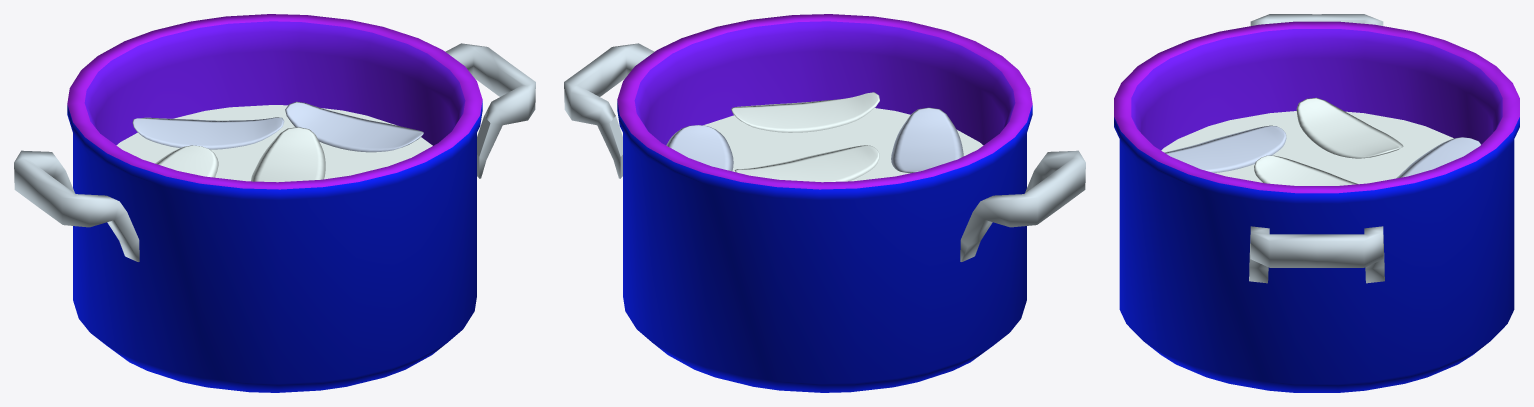
File: CookedBluePetals.fbx
3 renders of one model, left to right at view 1: azimuth 30°, elevation 25°; view 2: azimuth 150°, elevation 25°; view 3: azimuth 270°, elevation 25°, orthographic.
Visible parts, largest first — view 1: Body.006, Handles.004, Water.004, Petel.055, Petel.056, Petel.054, Petel.051; view 2: Body.006, Handles.004, Water.004, Petel.053, Petel.052, Petel.054, Petel.055; view 3: Body.006, Water.004, Handles.004, Petel.051, Petel.052, Petel.054, Petel.056.
Boxes of the visible parts, left/top/right/bottom form: Body.006: left=67, top=14, right=482, bottom=392; Handles.004: left=14, top=43, right=535, bottom=261; Water.004: left=116, top=105, right=432, bottom=181; Petel.055: left=285, top=101, right=423, bottom=152; Petel.056: left=132, top=117, right=284, bottom=149; Petel.054: left=251, top=127, right=325, bottom=182; Petel.051: left=155, top=145, right=218, bottom=177; Body.006: left=617, top=14, right=1032, bottom=392; Handles.004: left=564, top=43, right=1085, bottom=261; Water.004: left=703, top=108, right=983, bottom=181; Petel.053: left=731, top=92, right=879, bottom=132; Petel.052: left=891, top=107, right=963, bottom=173; Petel.054: left=734, top=145, right=879, bottom=182; Petel.055: left=666, top=125, right=733, bottom=171; Body.006: left=1114, top=21, right=1519, bottom=392; Water.004: left=1161, top=111, right=1453, bottom=184; Handles.004: left=1249, top=14, right=1384, bottom=283; Petel.051: left=1296, top=97, right=1403, bottom=158; Petel.052: left=1164, top=125, right=1286, bottom=172; Petel.054: left=1254, top=155, right=1358, bottom=185; Petel.056: left=1396, top=137, right=1480, bottom=178.
Bounding box in the file's own units: 83.38 × 35.99 × 62.94.
